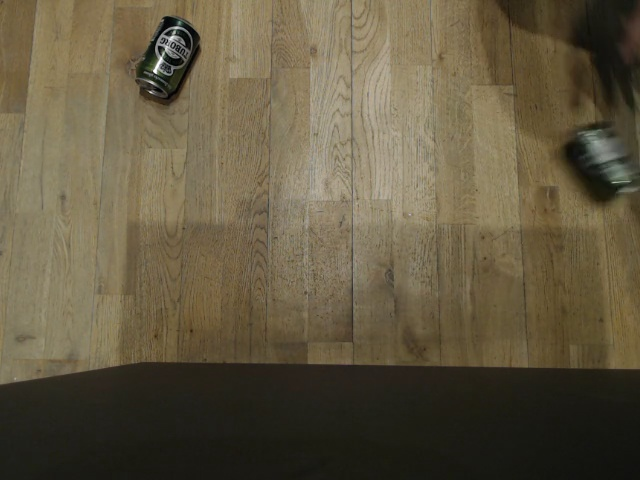beer: (132, 13, 202, 100), (564, 121, 638, 201)
